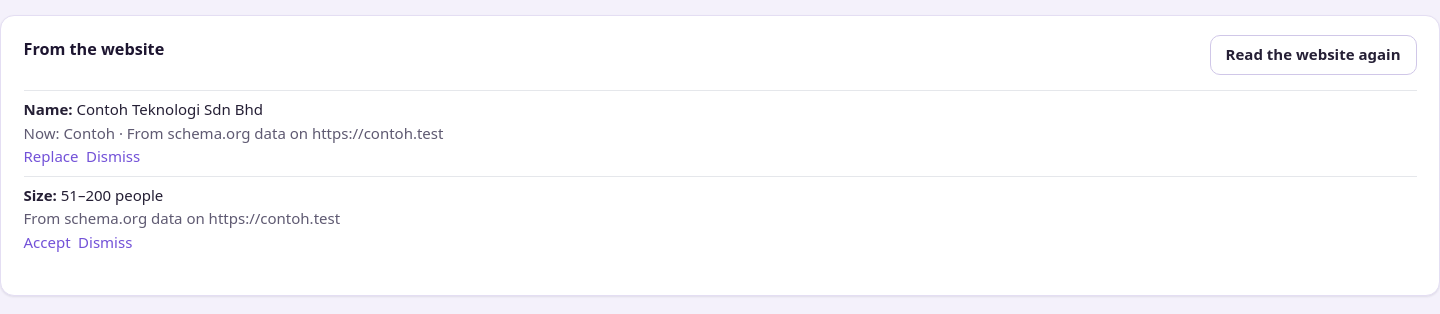
Test: company auto-fill › lists suggestions next to what is recorded, and sends the decision
Expected: the list item "Name" shows "Contoh Teknologi Sdn Bhd", [76,99,263,119]
Expected: the list item "Name" shows "Now: Contoh", [24,90,1416,176]
Click the button "Replace".
click(51, 156)  # box [24,145,78,168]
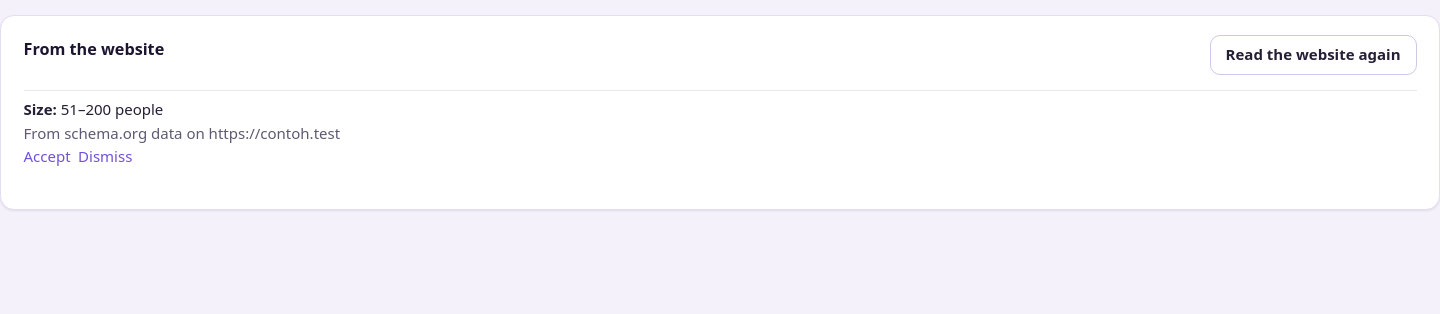
Expected: the text "Name" is gone
